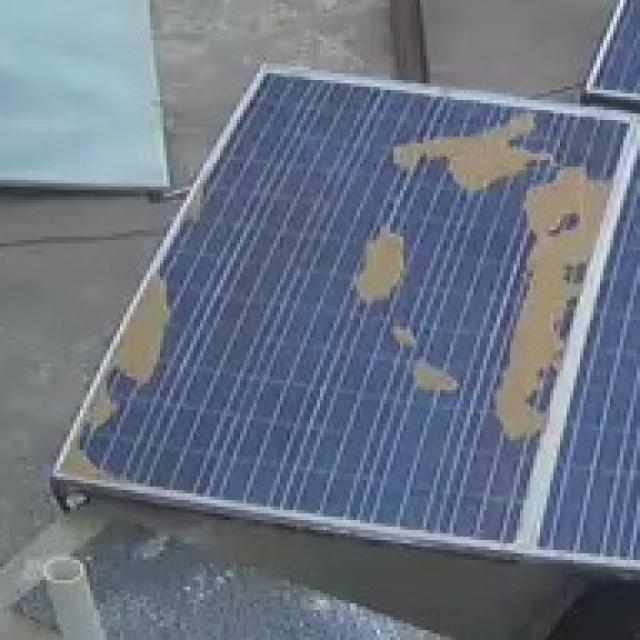Dusty: (378, 116, 566, 182), (524, 185, 583, 312), (358, 219, 414, 314), (502, 316, 542, 440), (128, 294, 175, 387), (399, 367, 459, 398), (69, 446, 103, 479), (385, 324, 424, 351), (89, 389, 118, 422), (547, 319, 565, 371), (588, 184, 603, 243), (190, 197, 213, 224)
